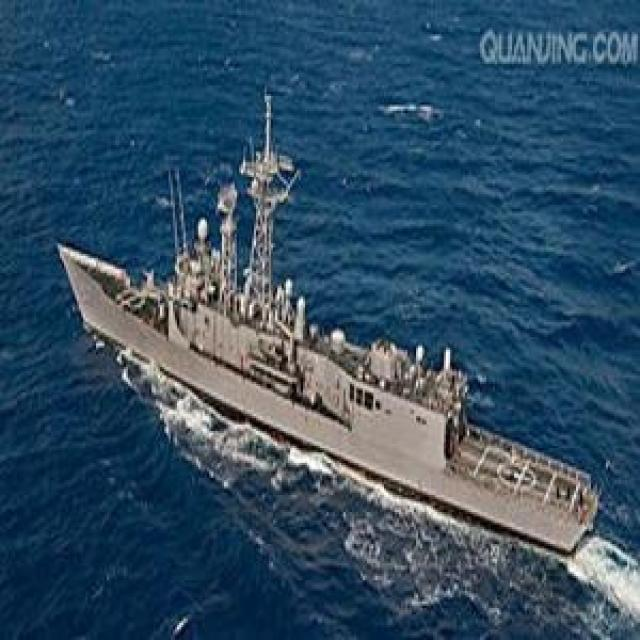navalvessels: (55, 80, 603, 555)
